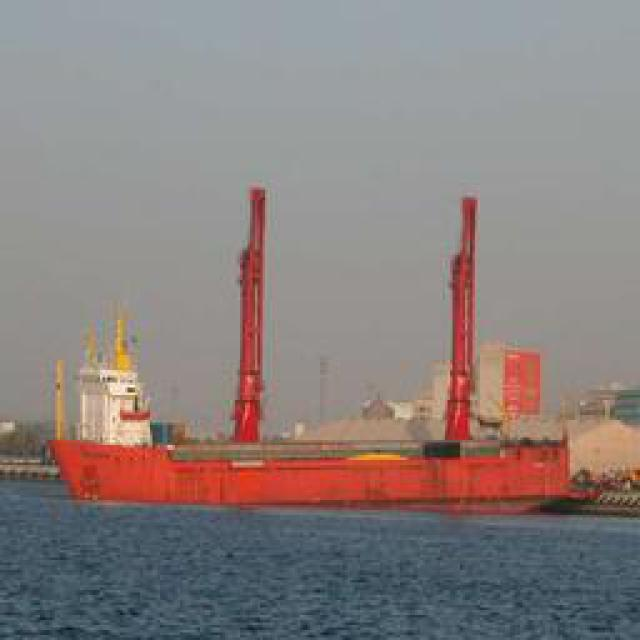Ship: (52, 433, 630, 511)
